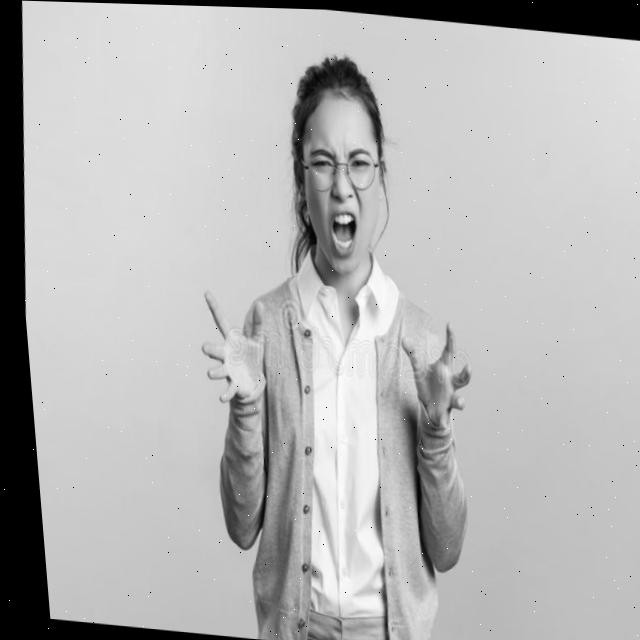angry: (259, 50, 410, 276)
